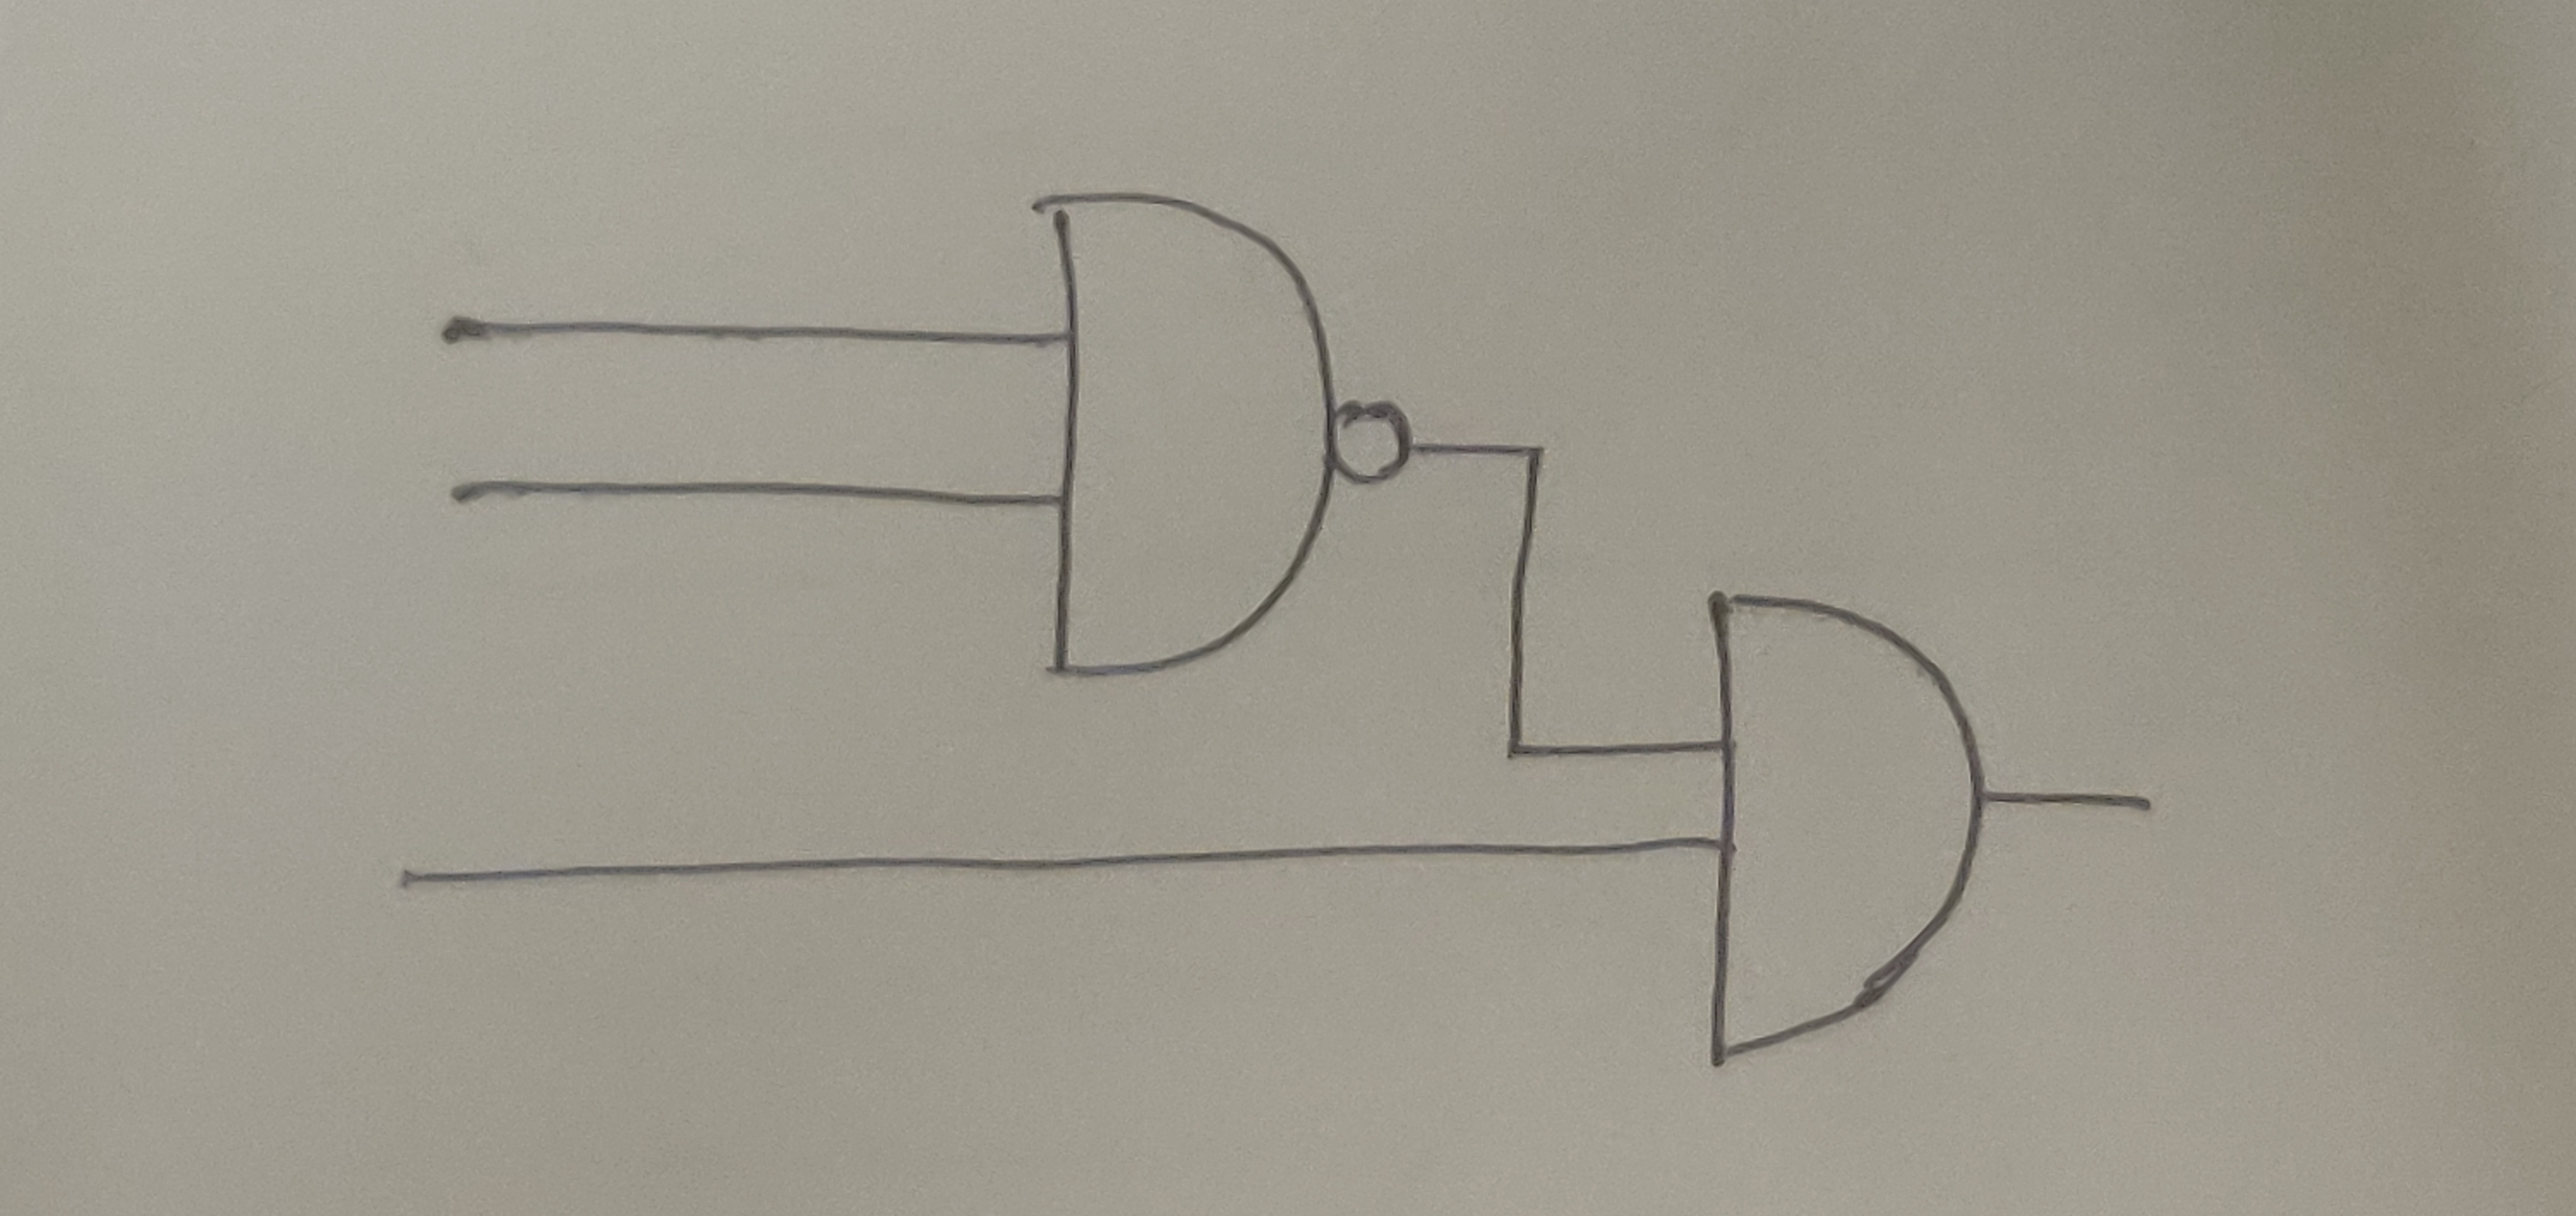and: (1032, 187, 1344, 680), (1705, 585, 1991, 1058)
not: (1331, 404, 1419, 493)
